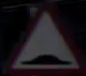Speed Breaker ahead: (9, 11, 76, 66)
